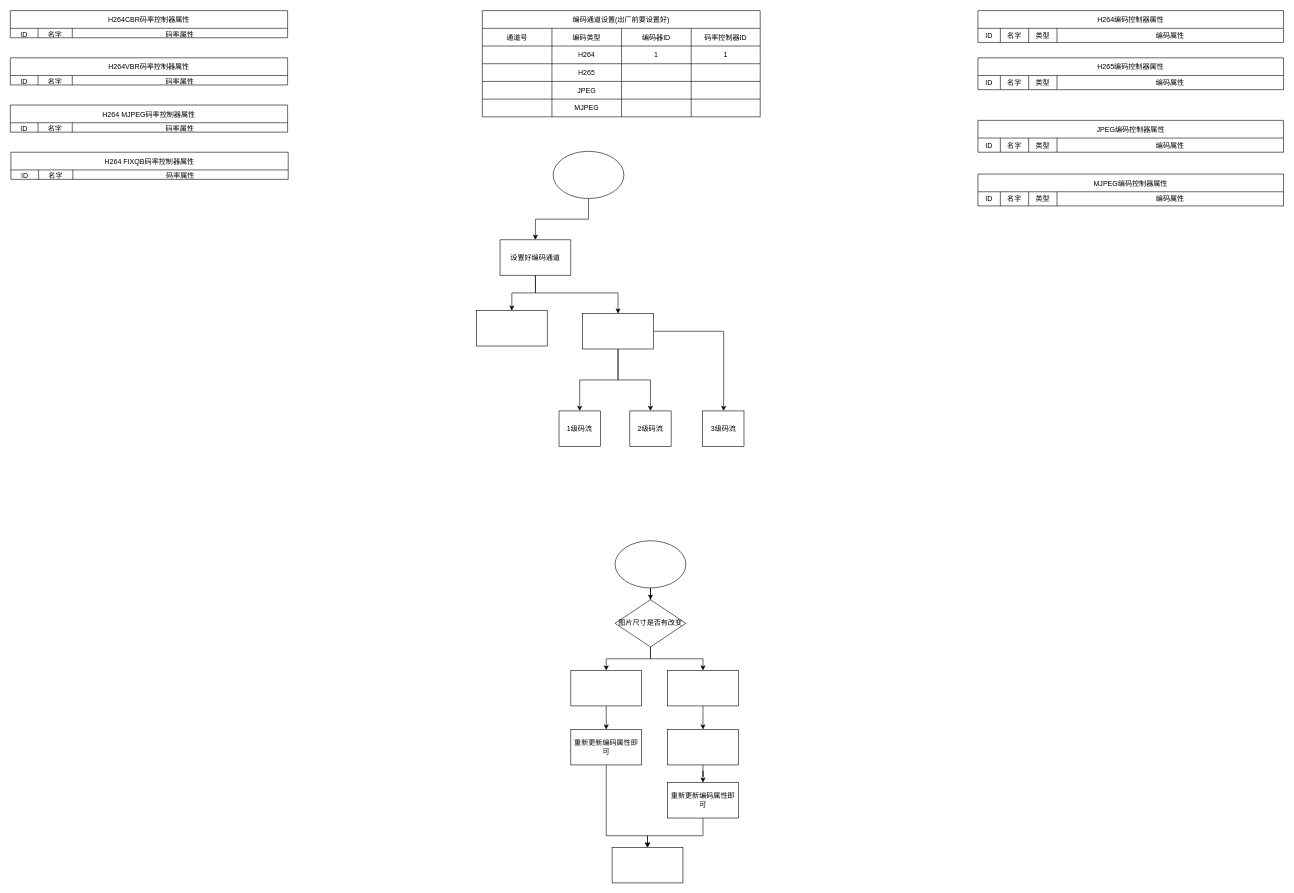
This 1294x893 diagram has some shape labels left out. Here are the shapes that lost their labels. From the top down, the centre of each, then its label:
At (x=588, y=175): "出厂时".
At (x=511, y=328): "录像部分".
At (x=617, y=331): "直播部分".
At (x=650, y=564): "切换码流的流程".
At (x=606, y=688): "没有变化".
At (x=702, y=688): "有变化".
At (x=702, y=747): "复位 编码通道".
At (x=647, y=865): "结束".
